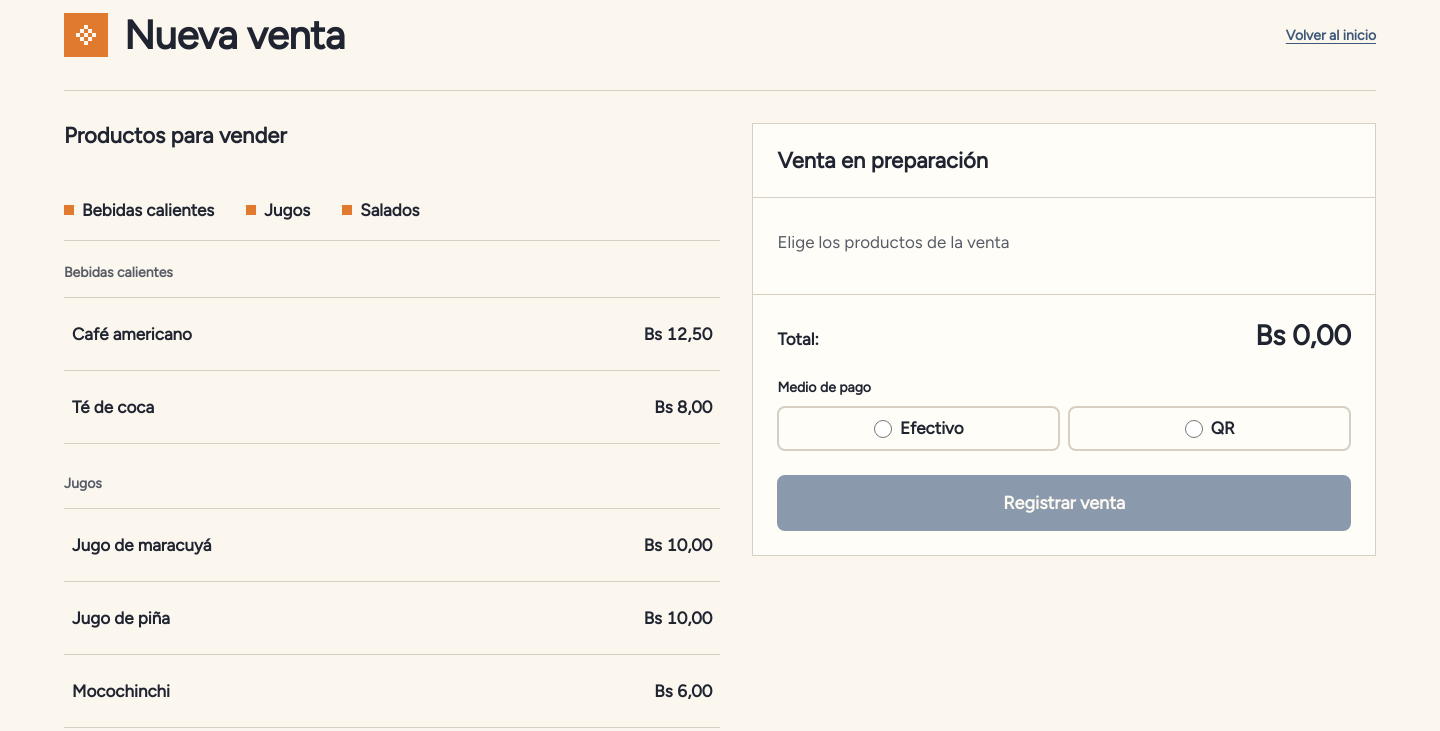
Scenario: registrar la venta (RF-6 a RF-9, RNF-4) › recalcula tras 409 y muestra los avisos: priceChanged
Click the button with aria-label "Café americano · Bs 12,50": [132, 334] box 64,298 -> 720,370
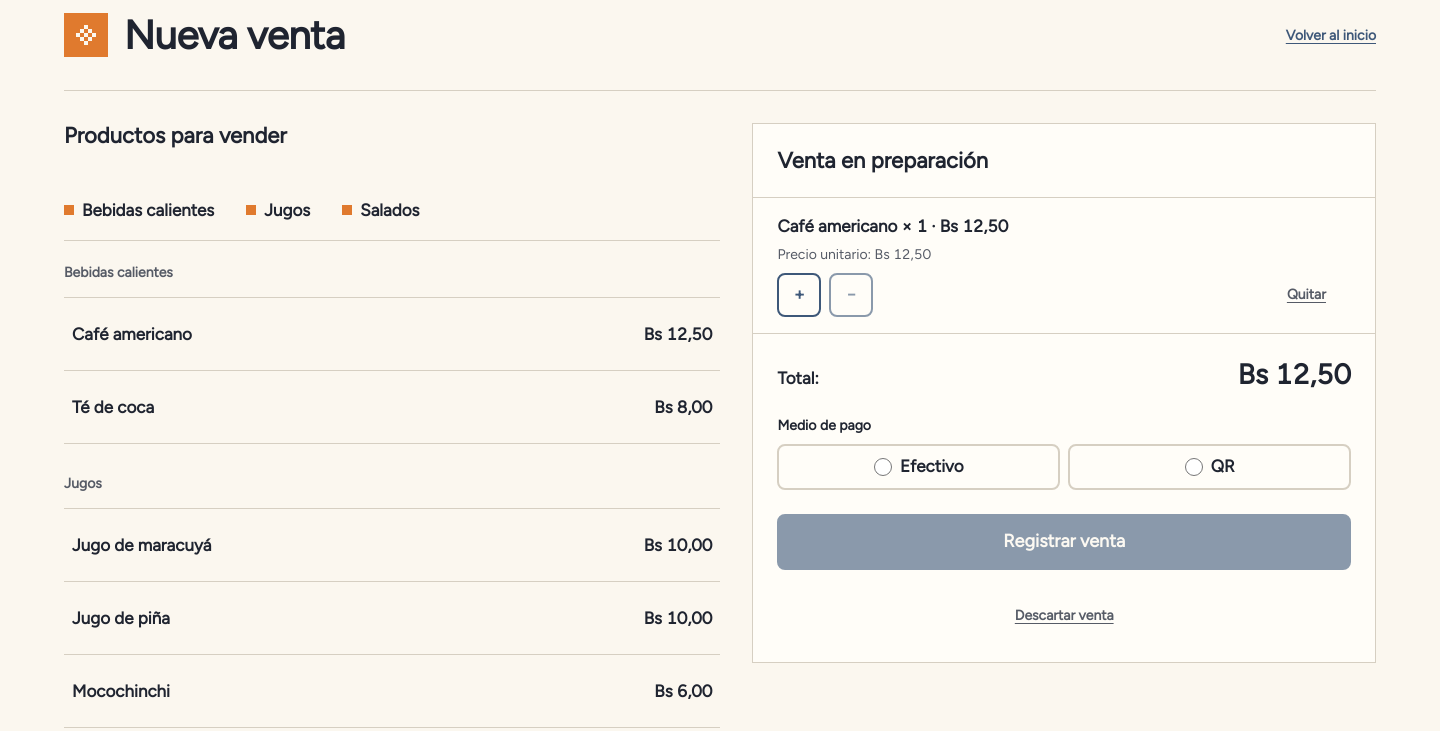
Click the radio button labelled "QR": [1194, 467] box 1185,458 -> 1203,476
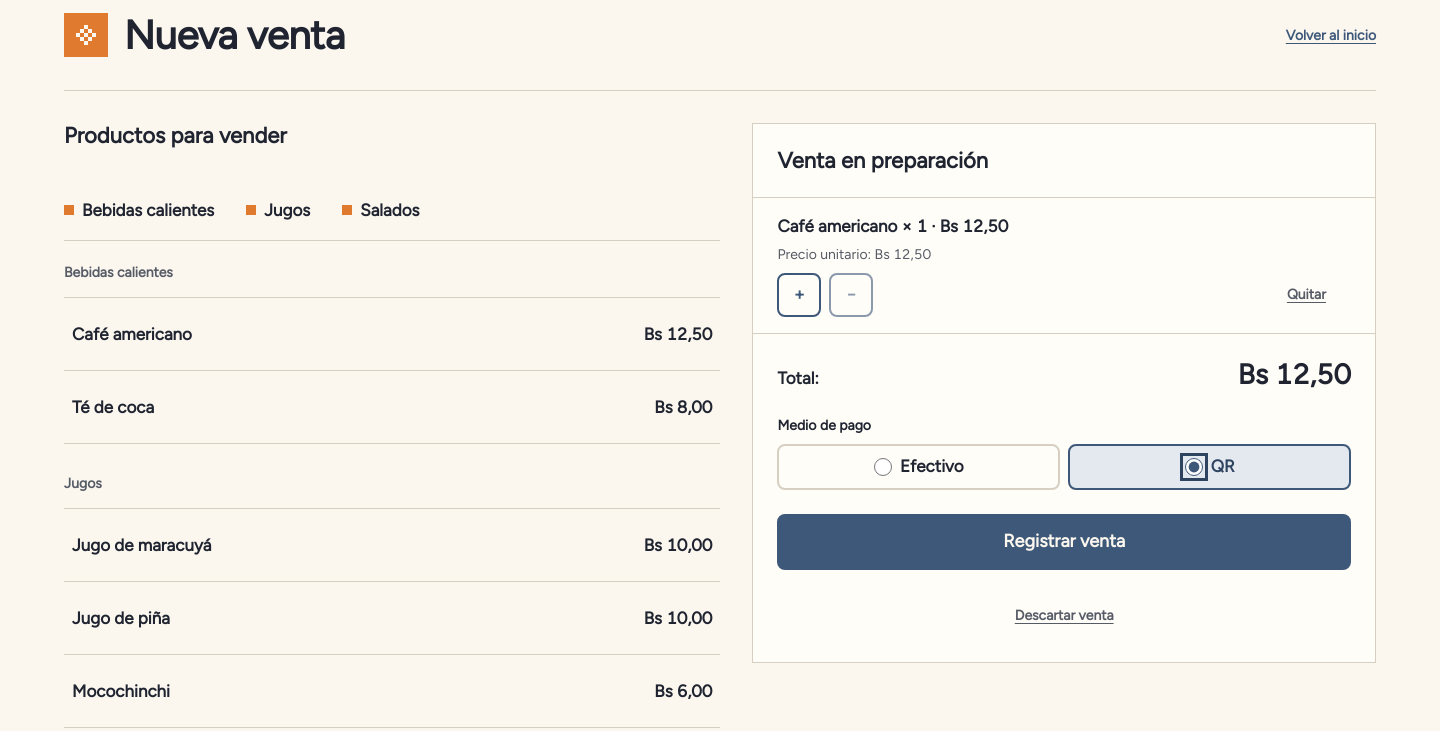
Click the button "Registrar venta": [1064, 542] box 777,514 -> 1351,570
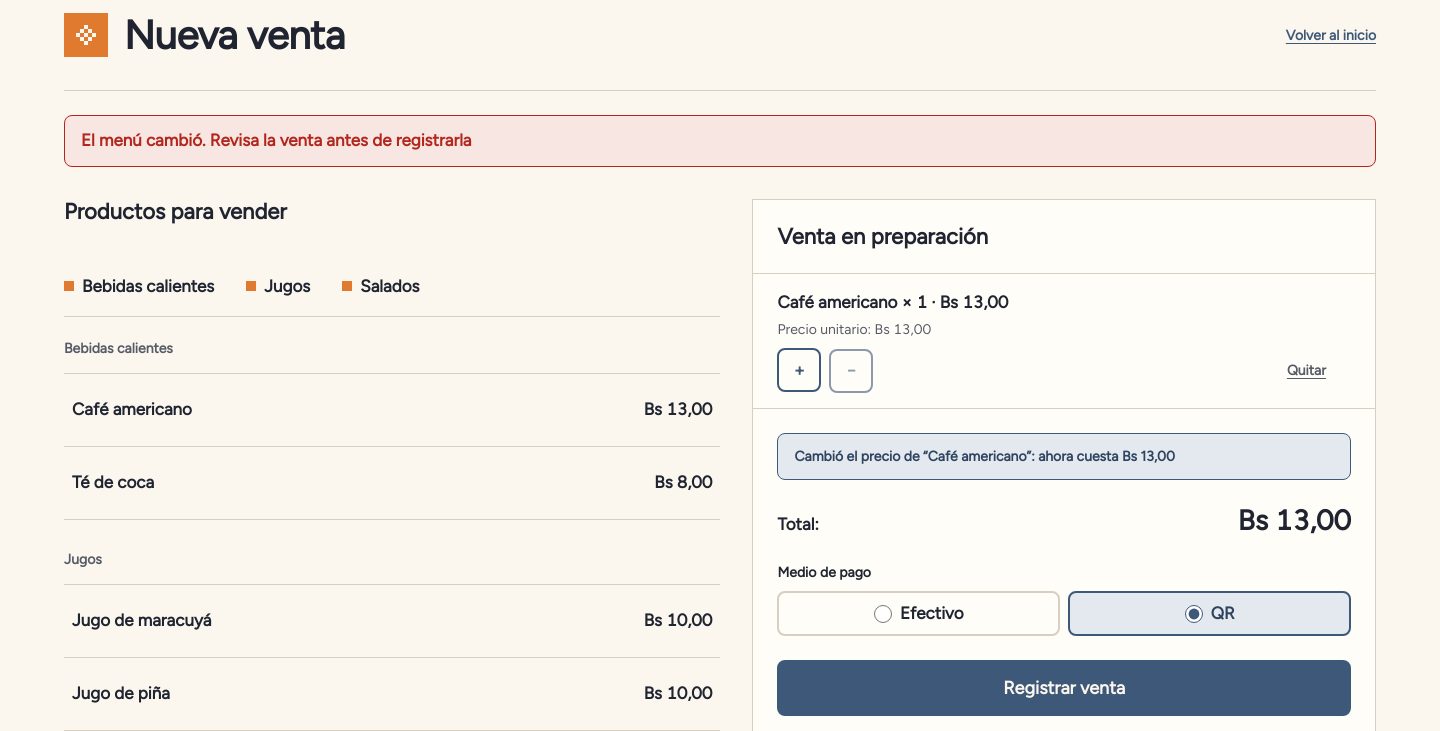
Result: the text "El menú cambió. Revisa la venta antes de registrarla" is shown at 64,115 -> 1376,166
Result: the text "Cambió el precio de “Café americano”: ahora cuesta Bs 13,00" is shown at 794,448 -> 1175,465
Click the button "Registrar venta": [1064, 688] box 777,660 -> 1351,716
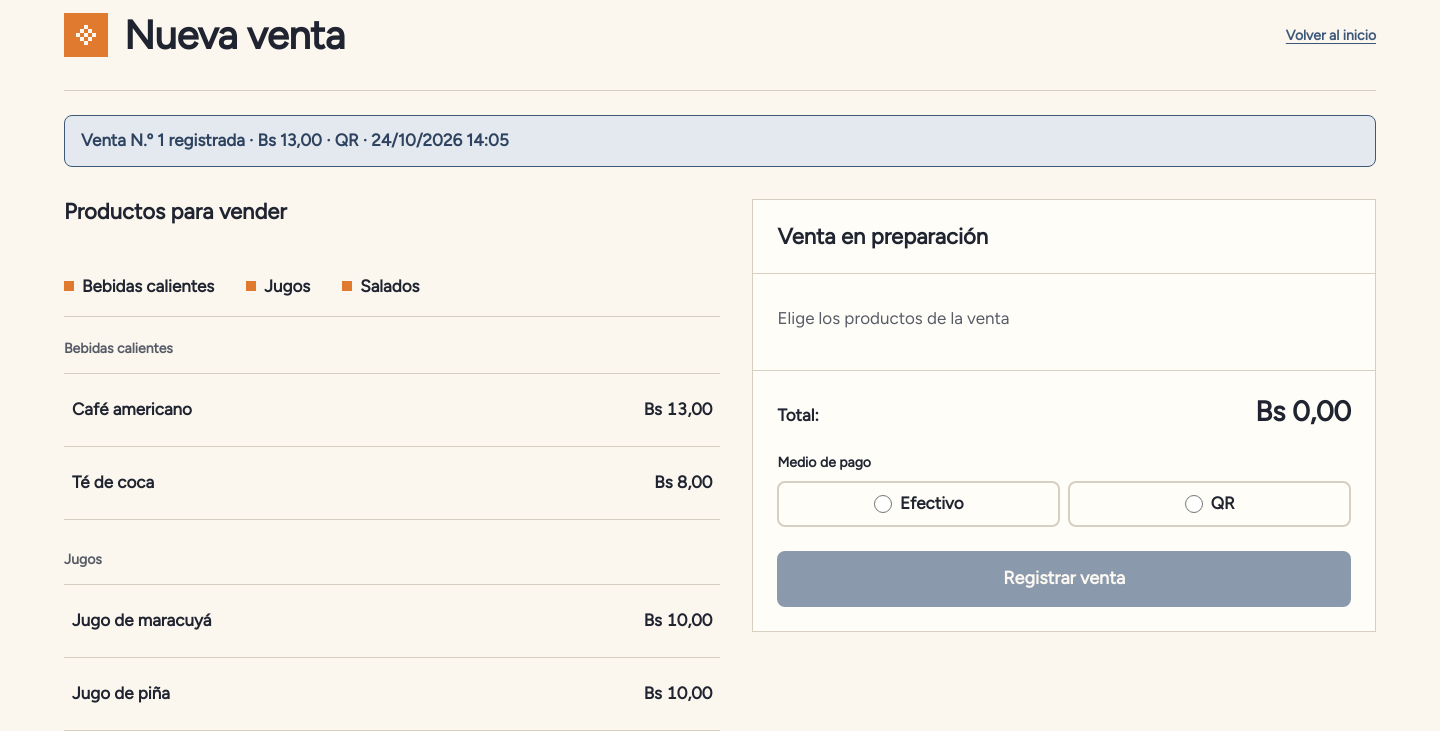
Result: the text "Venta N.º 1 registrada · Bs 13,00 · QR · 24/10/2026 14:05" is shown at 64,115 -> 1376,166
